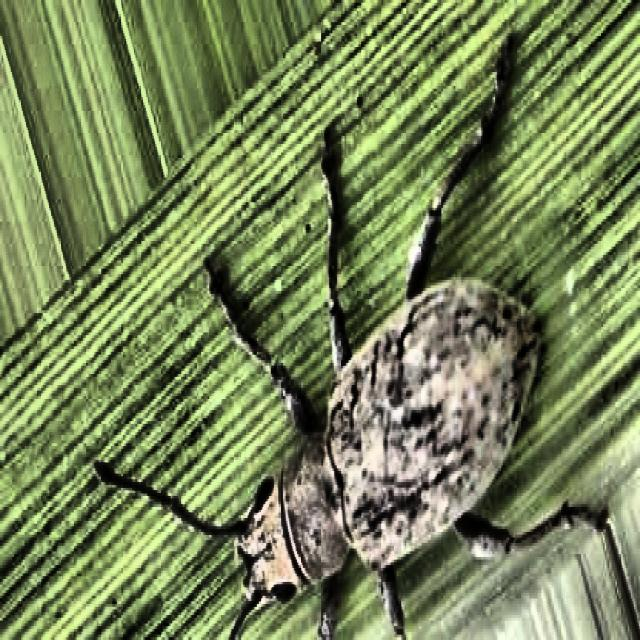Stink bug: (129, 280, 597, 640)
